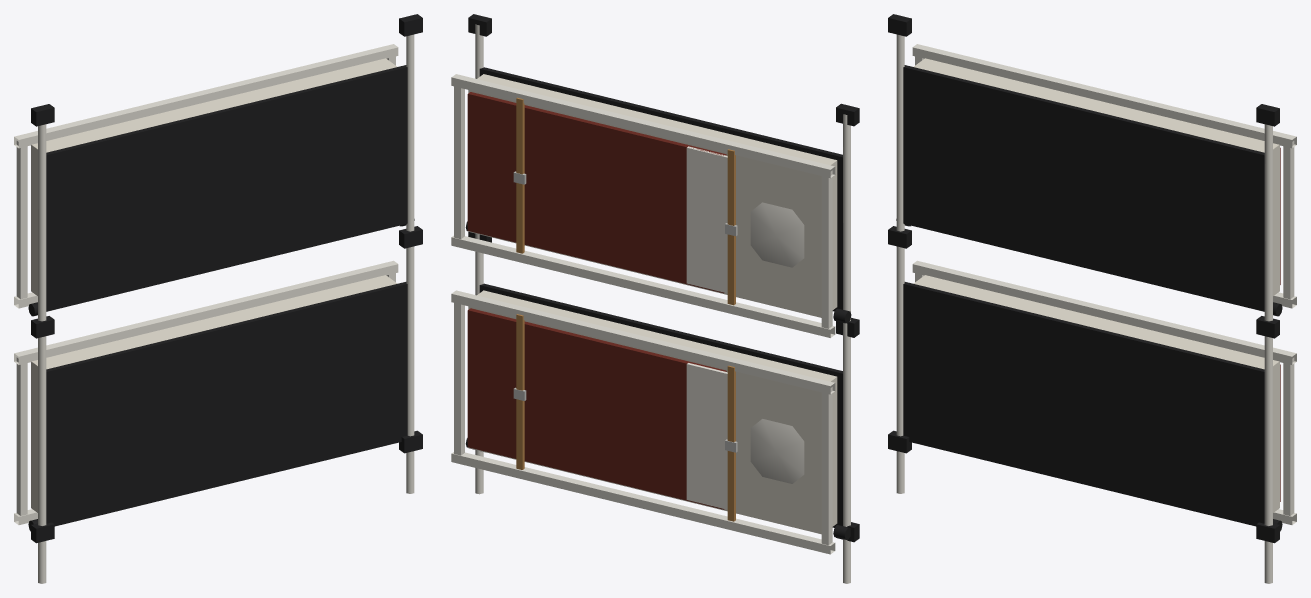
3 views of the same model, side by side, from view 1: azimuth 30°, elevation 25°; view 2: azimuth 150°, elevation 25°; view 3: azimuth 330°, elevation 25° (orthographic).
Parts seen in each view (by area): view 1: parametric-variant-berth-double-3rd-010ffb4868503a6e436f; view 2: parametric-variant-berth-double-3rd-010ffb4868503a6e436f; view 3: parametric-variant-berth-double-3rd-010ffb4868503a6e436f.
Boxes of the visible parts, x1,y1,x2,y2 form: parametric-variant-berth-double-3rd-010ffb4868503a6e436f: [14, 14, 422, 583]; parametric-variant-berth-double-3rd-010ffb4868503a6e436f: [451, 14, 859, 583]; parametric-variant-berth-double-3rd-010ffb4868503a6e436f: [888, 14, 1296, 583].
Bounding box in the file's own units: 1.68 × 1.97 × 0.202.
